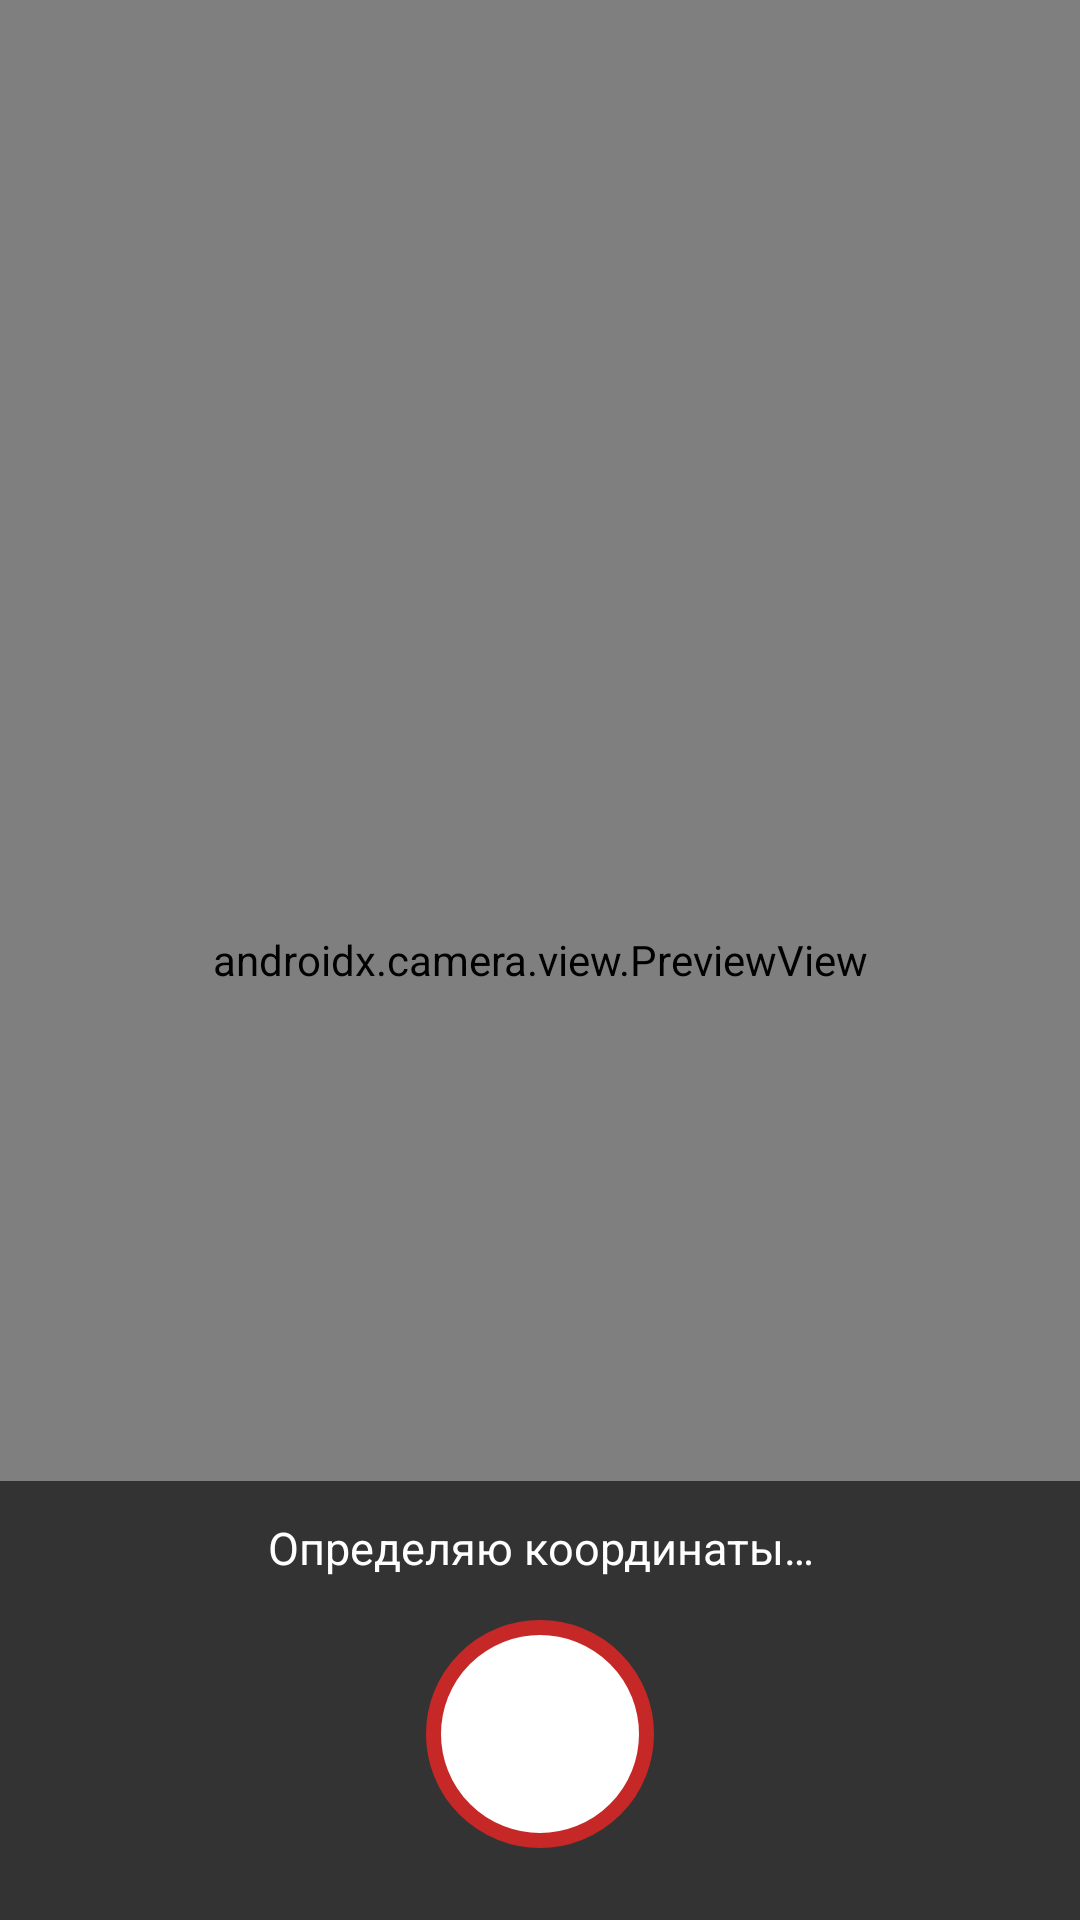

Where to tap for icons on this 1080×1920 app screen, as (x=x, y=y):
Сфотографировать: (x=540, y=1734)
